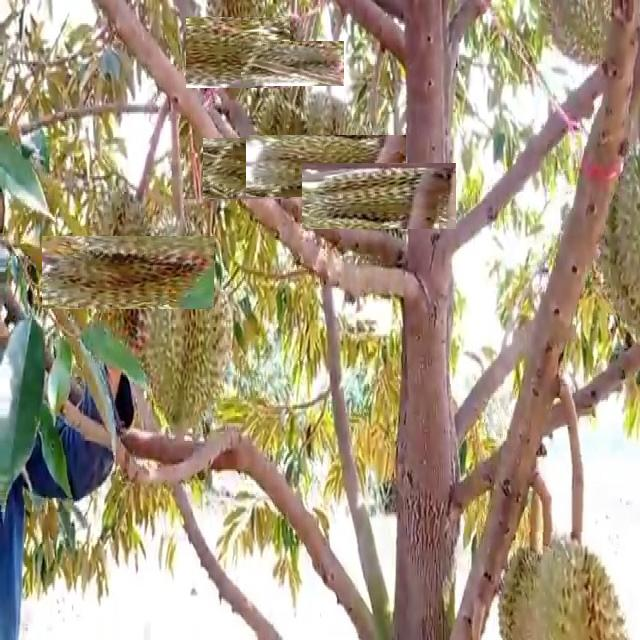durian: (132, 208, 231, 443), (67, 210, 189, 334), (496, 532, 632, 638), (271, 110, 382, 221), (324, 141, 435, 251), (226, 114, 334, 222), (598, 146, 639, 359), (194, 8, 282, 96), (255, 27, 330, 101)
